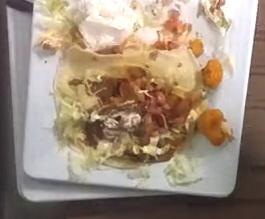taco: (53, 59, 192, 167)
